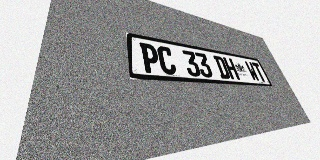3: (182, 50, 202, 77), (194, 52, 214, 78)
C: (156, 45, 177, 75)
D: (213, 55, 231, 79)
H: (223, 57, 240, 80)
P: (139, 42, 161, 74)
T: (251, 62, 267, 82)
W: (244, 61, 260, 81)
